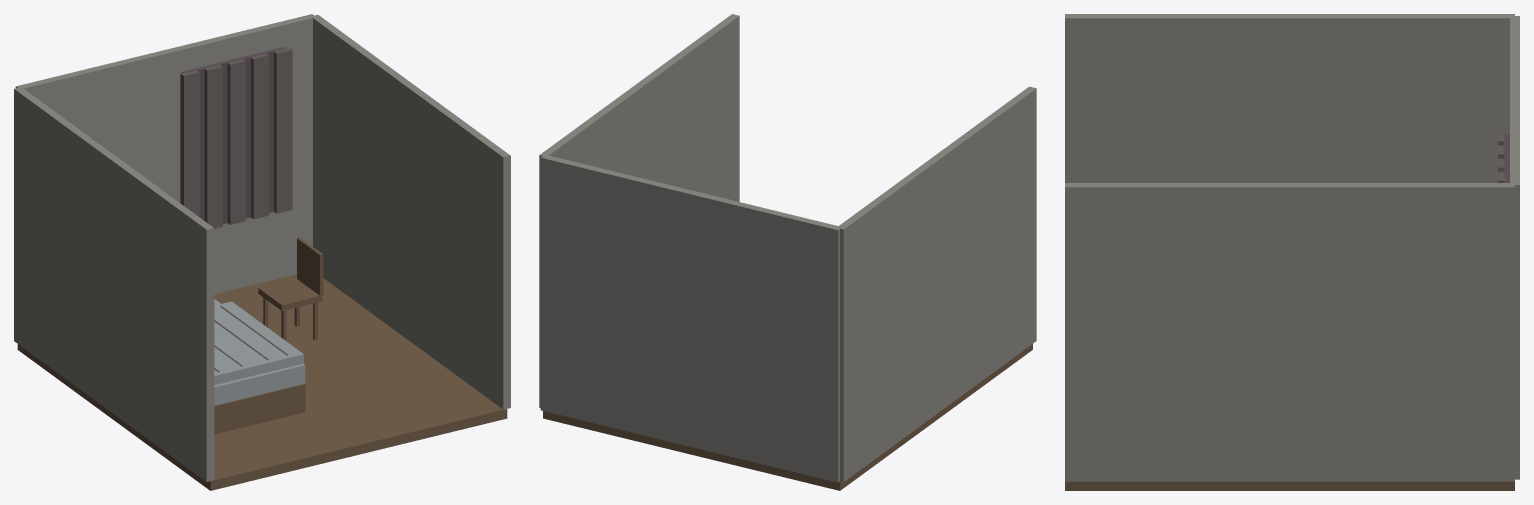
File: bedroom.glb
3 renders of one model, left to right at view 1: azimuth 30°, elevation 25°; view 2: azimuth 150°, elevation 25°; view 3: azimuth 270°, elevation 25°, orthographic. The views are drawn at different scales.
Visible parts, largest first — view 1: bedroom_root, bed, chair; view 2: bedroom_root; view 3: bedroom_root.
Boxes of the visible parts, x1=… form: bedroom_root: x1=14, y1=14, x2=510, y2=490; bed: x1=214, y1=299, x2=305, y2=434; chair: x1=258, y1=237, x2=323, y2=341; bedroom_root: x1=539, y1=14, x2=1036, y2=490; bedroom_root: x1=1065, y1=14, x2=1519, y2=490.
Bounding box in the file's own units: 3.28 × 2.7 × 3.64.
